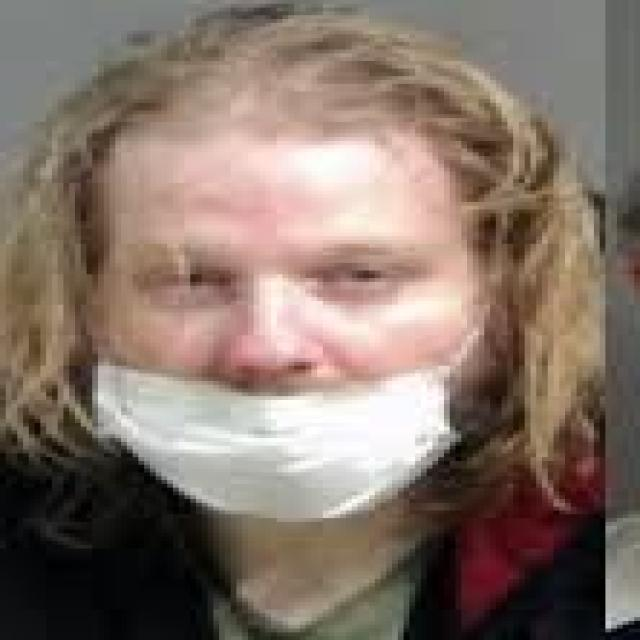hairnet: (68, 18, 504, 532)
